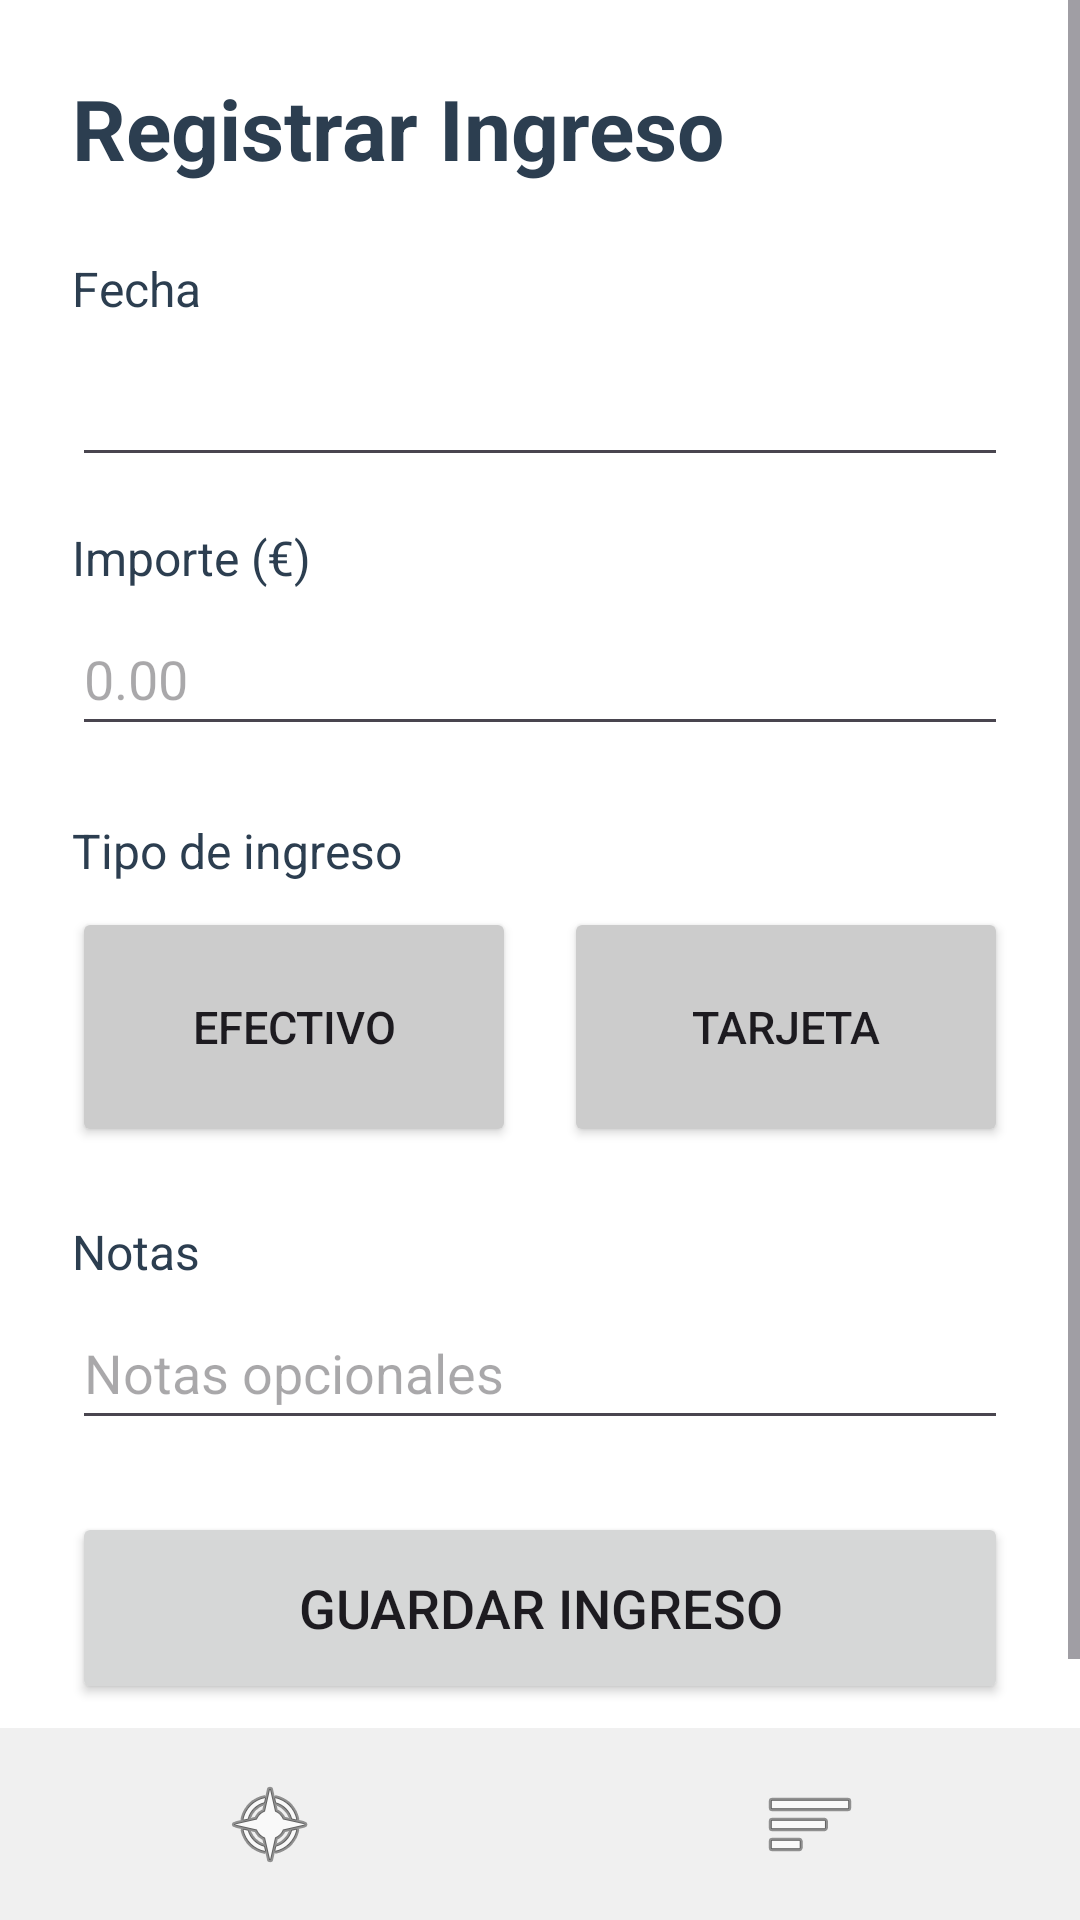

Named icons in this screenshot (1080px×1920px) and their centers, [x,y]:
Ir a informes: [810,1824]
